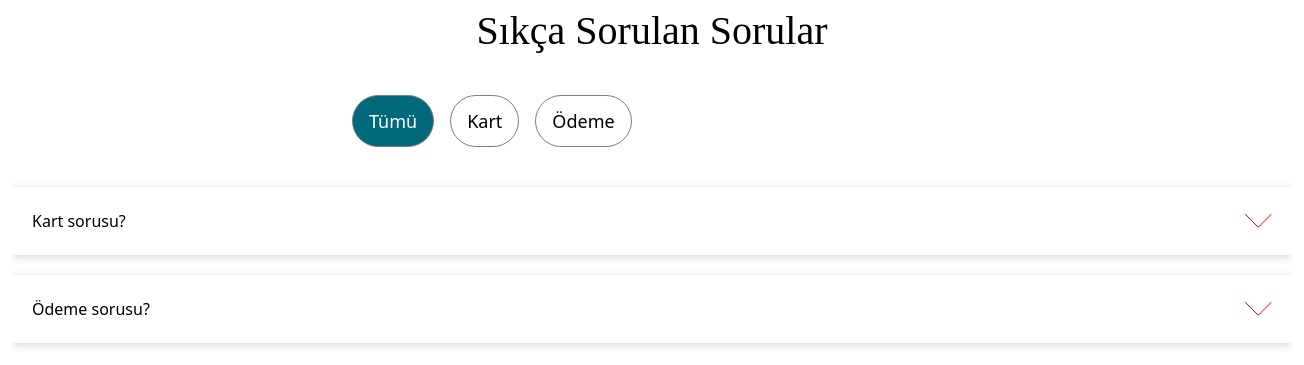
Test case: FaqCategoryFilter › filters to the selected category's questions
Click the link "Kart".
click(485, 121)  # box [450,95,519,147]
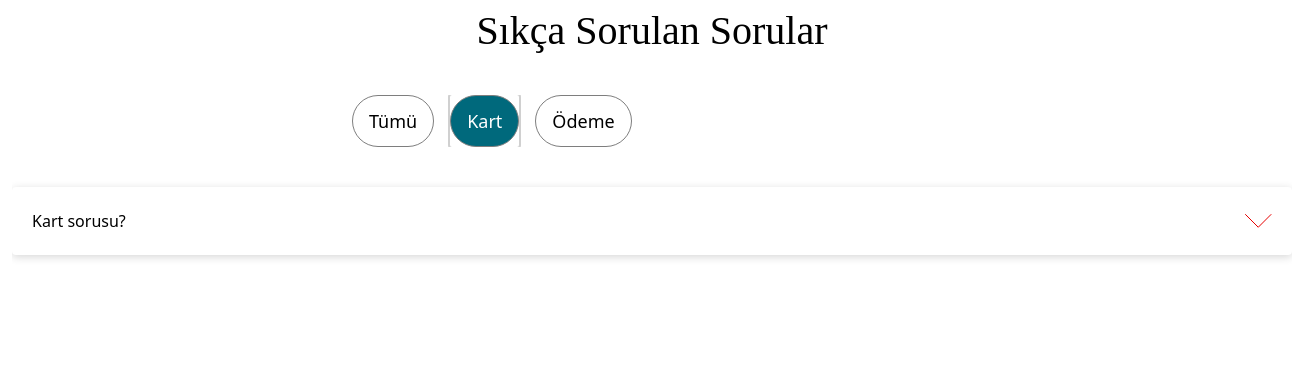
Expected: the heading "Kart sorusu?" is shown, [32,209,126,233]
Expected: the button "Ödeme sorusu?" is gone
